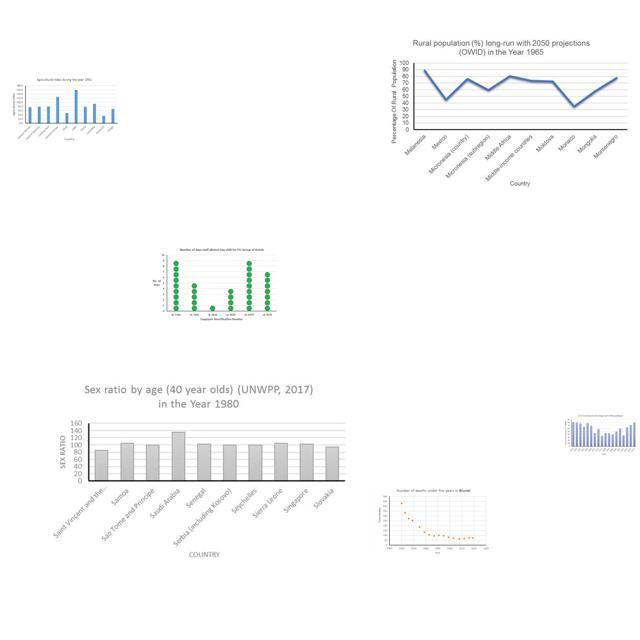Graph: (48, 378, 348, 564), (385, 35, 631, 190), (150, 245, 279, 325), (375, 486, 491, 558), (9, 76, 120, 141), (563, 414, 637, 456)
